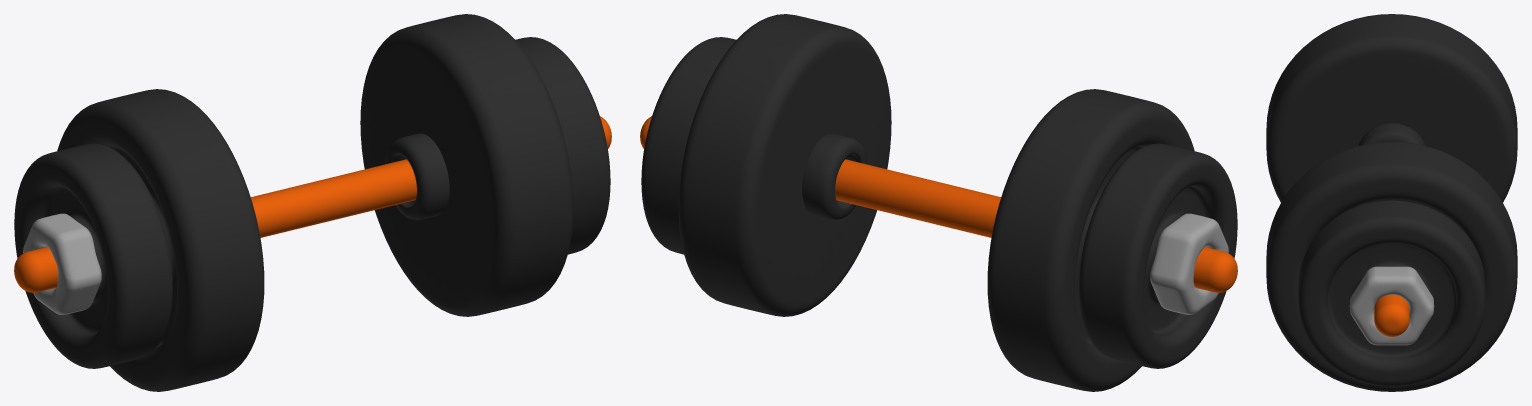
The model's file is strength-animated-3d-icon-1380120573998.glb.
3 views of the same model, side by side, from view 1: azimuth 30°, elevation 25°; view 2: azimuth 150°, elevation 25°; view 3: azimuth 270°, elevation 25° (orthographic). The views are drawn at different scales.
Visible parts, largest first — view 1: Weight 1, Weight 2, Stick, Lock, Joints; view 2: Weight 1, Weight 2, Stick, Lock, Joints; view 3: Weight 1, Weight 2, Lock, Stick, Joints.
Part boxes in pixels (x1,y1,x2,y2): Weight 1: [57, 14, 573, 391]; Weight 2: [14, 37, 610, 368]; Stick: [14, 116, 611, 292]; Lock: [23, 213, 101, 314]; Joints: [385, 133, 449, 220]; Weight 1: [678, 14, 1194, 391]; Weight 2: [641, 37, 1237, 368]; Stick: [640, 116, 1237, 292]; Lock: [1150, 213, 1228, 314]; Joints: [802, 133, 866, 220]; Weight 1: [1266, 14, 1517, 391]; Weight 2: [1298, 200, 1485, 386]; Lock: [1349, 266, 1434, 345]; Stick: [1374, 294, 1409, 336]; Joints: [1358, 123, 1425, 145].
Bounding box in the file's own units: 2.58 × 1.13 × 1.13.
